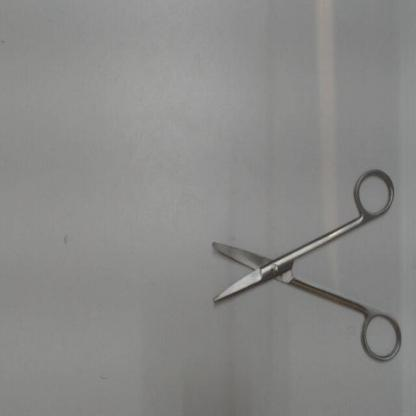Curved Mayo Scissors: (206, 162, 408, 373)
